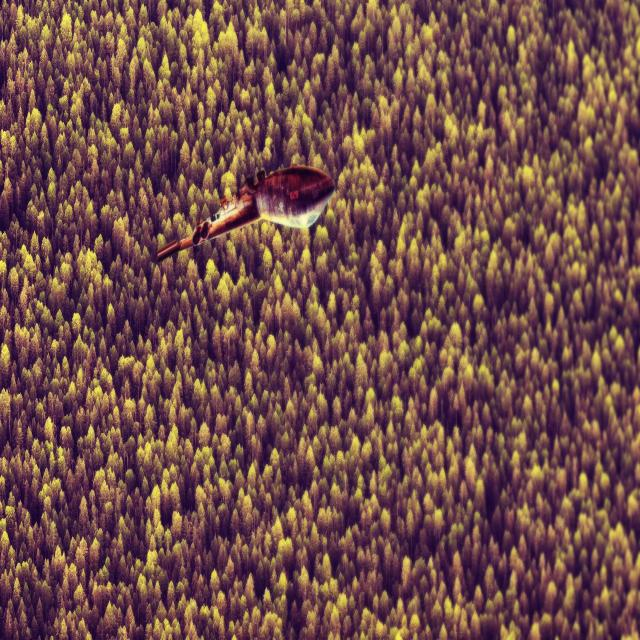airplane: (156, 162, 336, 263)
